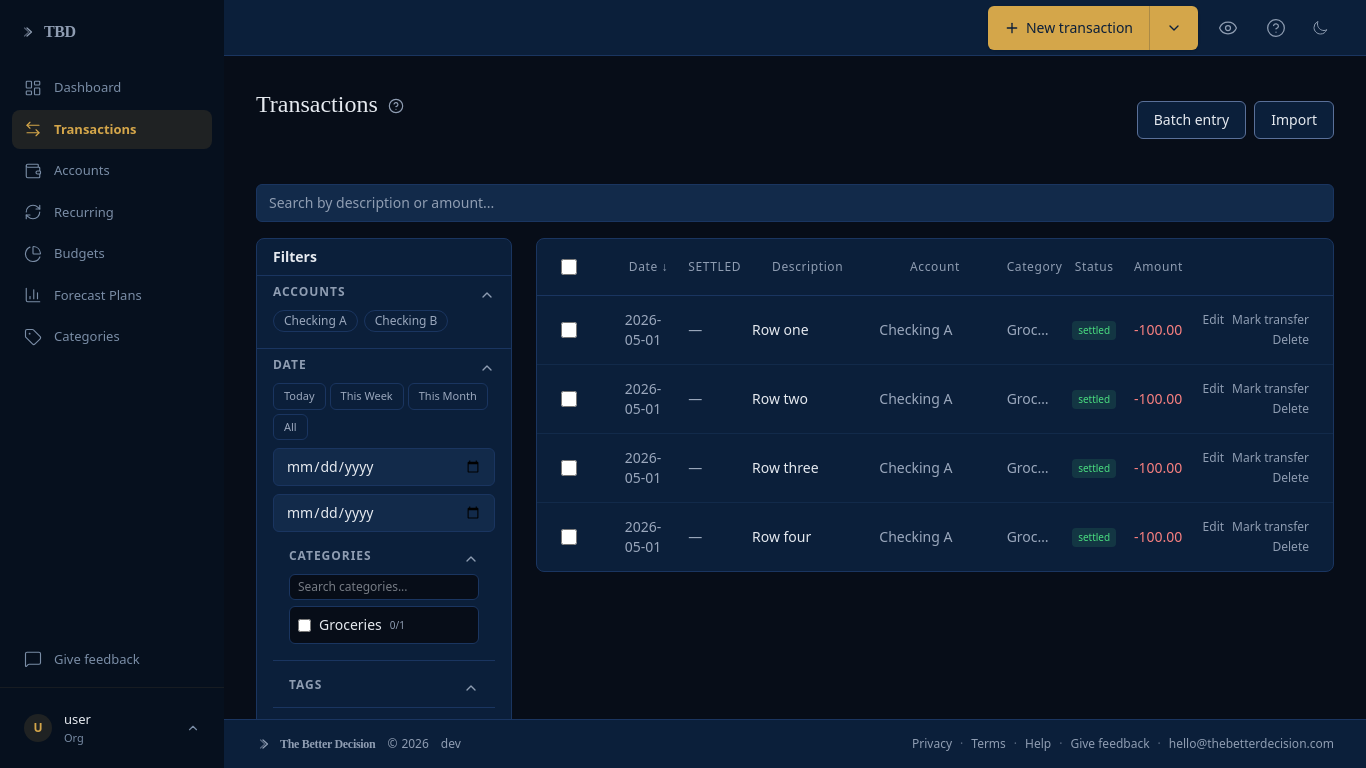
Scenario: TransactionsPage — bulk-delete banner counts (TBD-290) › control, no cascade: reports the plain count and says nothing about transfers
This screenshot has width=1366, height=768.
Check: the button with aria-label "Edit:" is shown, box [1203,312,1224,328]
Click the checkbox named "Select transaction 1" at x=569, y=330, box [561,322,577,338]
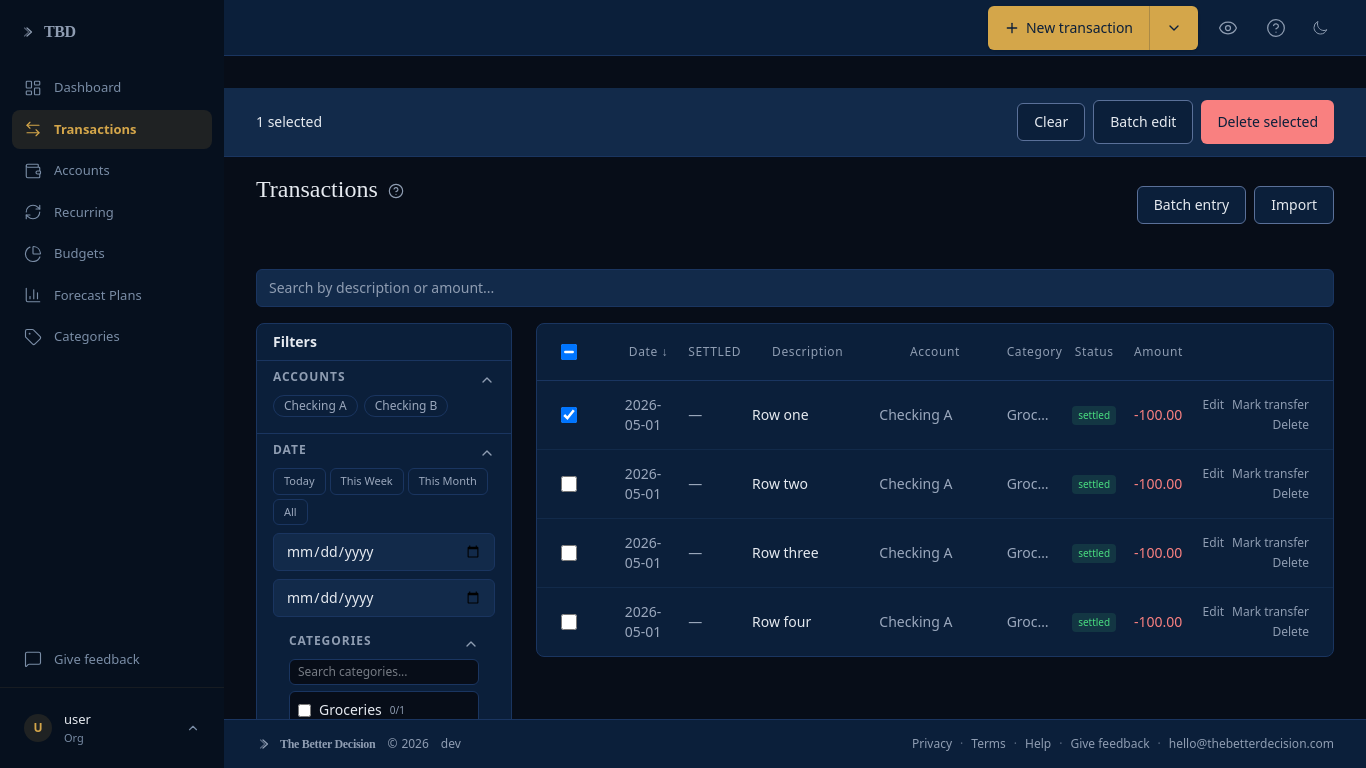
Click the checkbox named "Select transaction 2" at x=569, y=484, box [561,476,577,492]
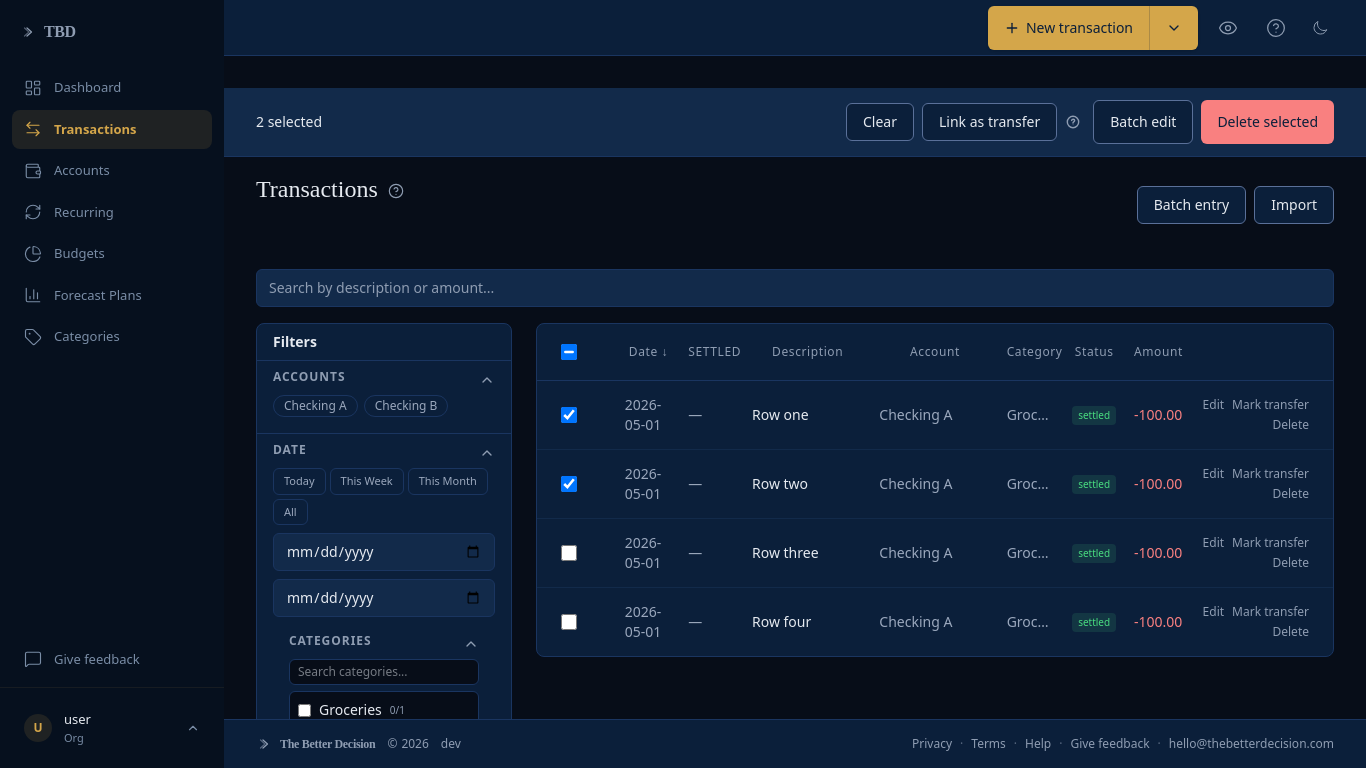
Click the checkbox named "Select transaction 3" at x=569, y=553, box [561,545,577,561]
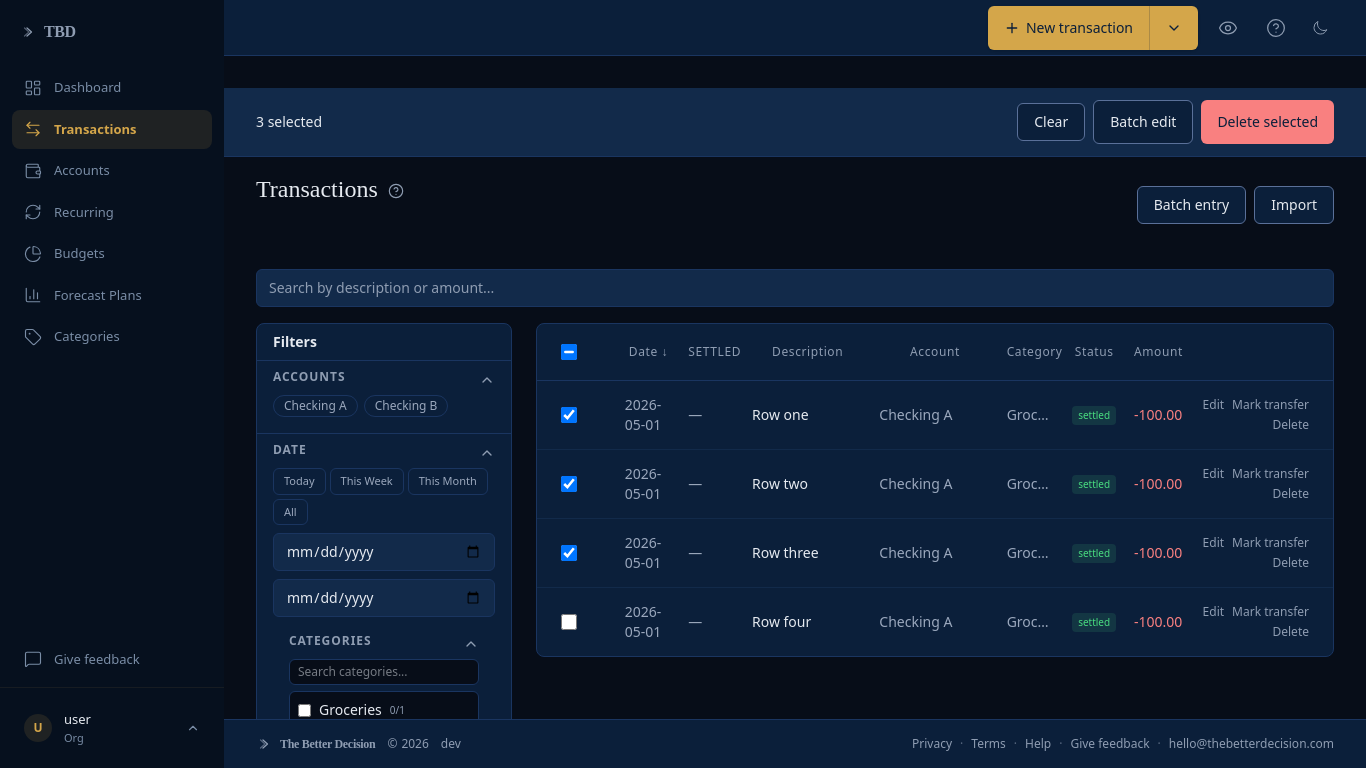
Click the checkbox named "Select transaction 4" at x=569, y=622, box [561,614,577,630]
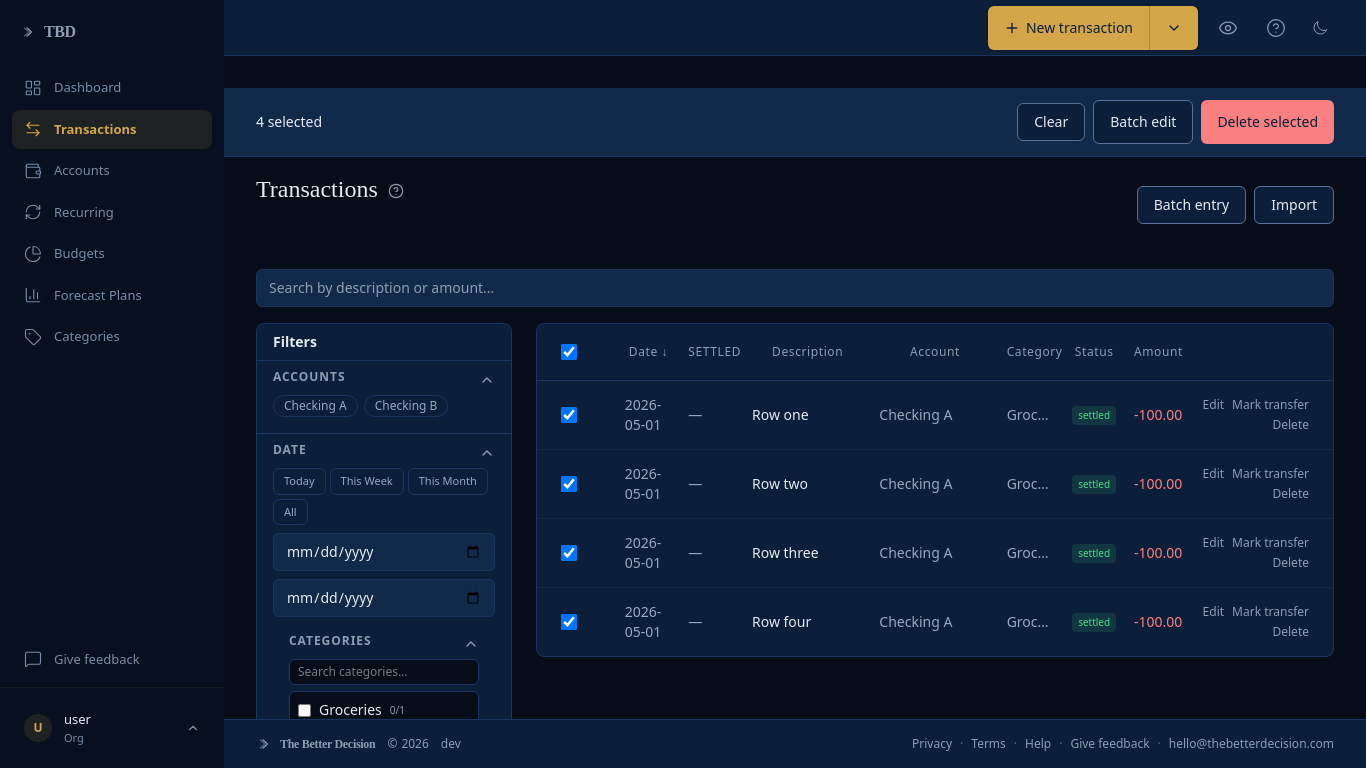
Click the button "Delete selected" at x=1268, y=122, box [1201,100,1334,144]
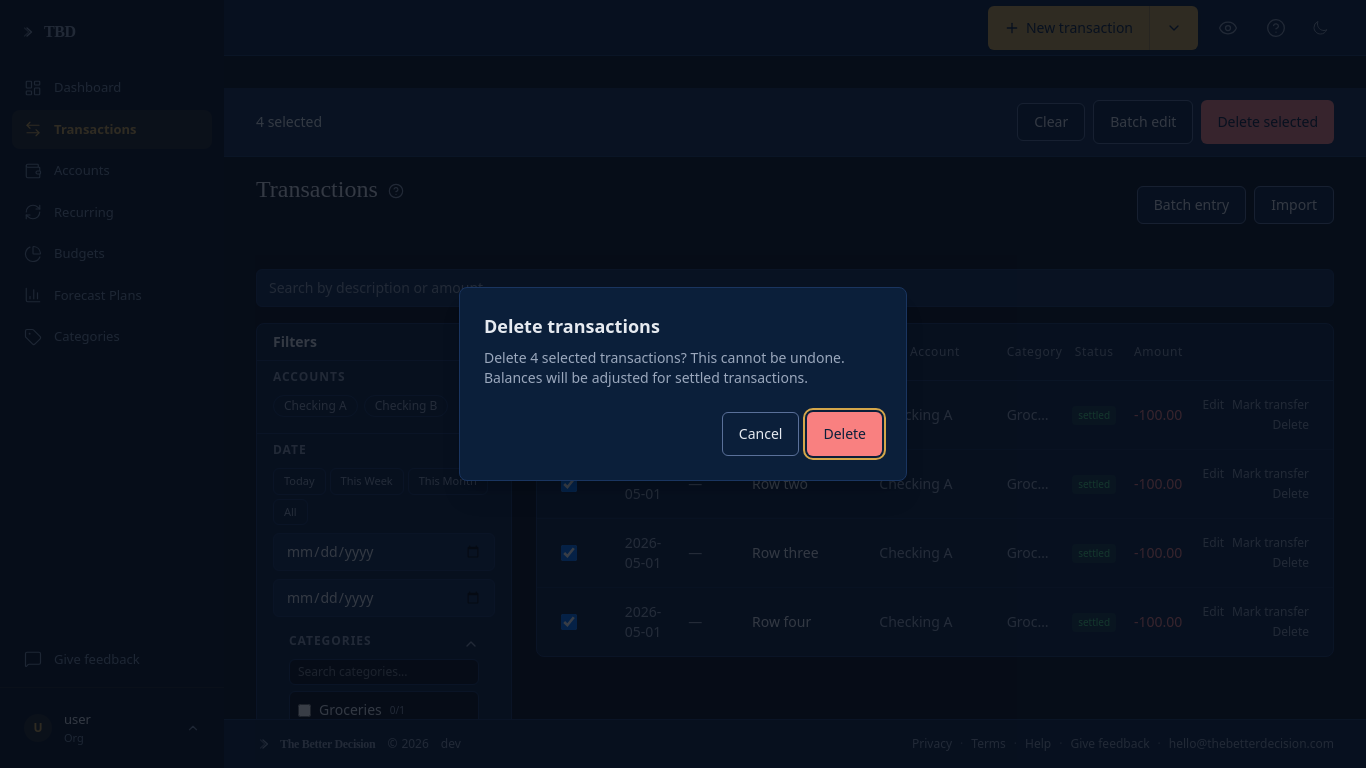
Click the button "Delete" at x=845, y=434, box [807,412,882,456]
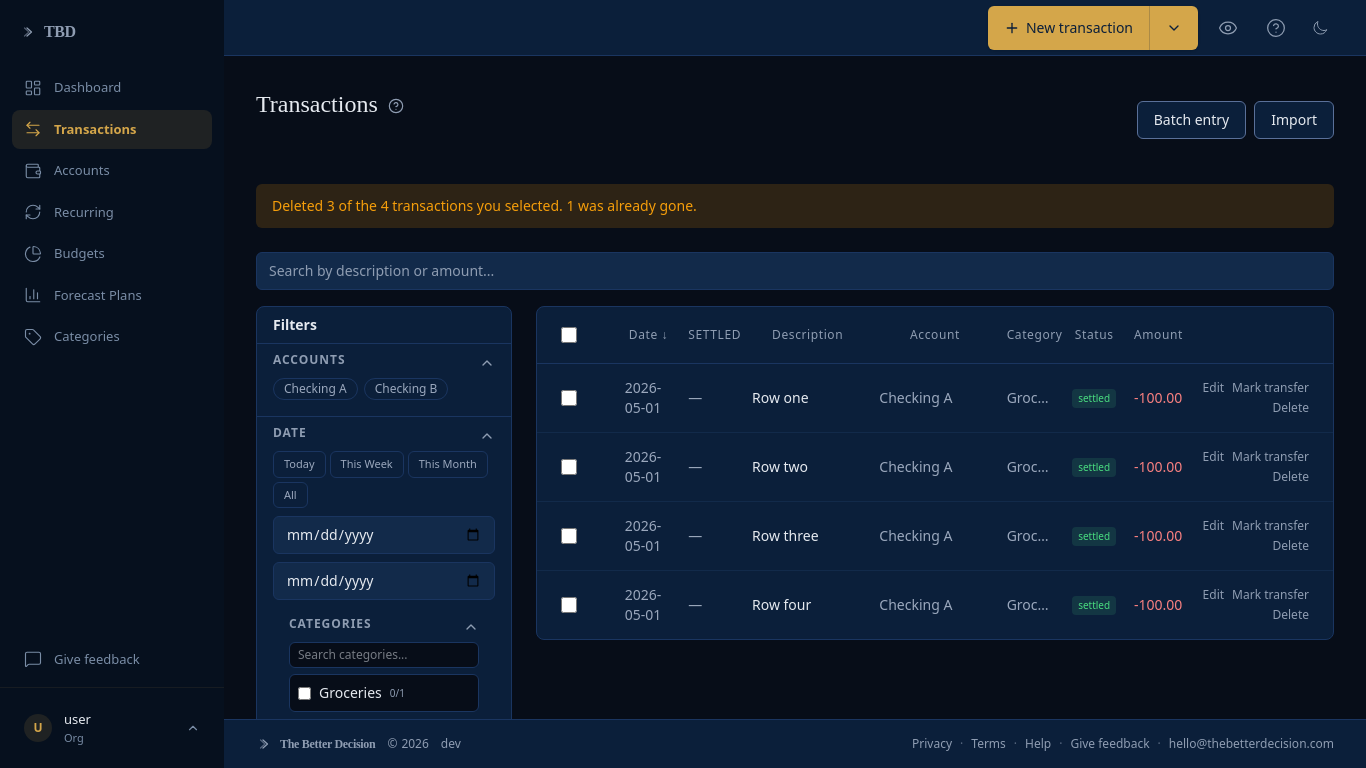
Check: the text "Deleted " reads "Deleted 3 of the 4 transactions you selected. 1 was already gone.", box [272,196,697,215]
Check: the text "Deleted " shows "1 was already gone", box [272,196,697,215]
